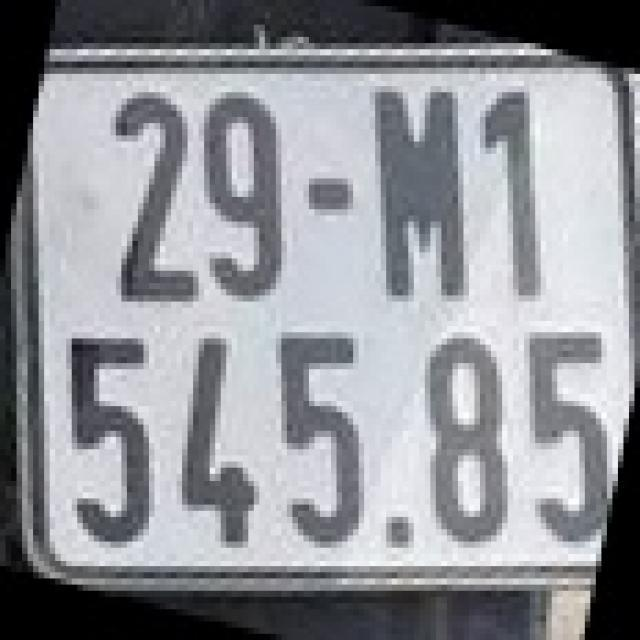1: (480, 87, 552, 296)
2: (104, 86, 198, 302)
4: (176, 332, 260, 548)
5: (61, 326, 160, 548), (276, 326, 370, 548), (524, 326, 613, 542)
8: (424, 326, 514, 542)
9: (198, 86, 292, 302)
M: (375, 76, 469, 298)
